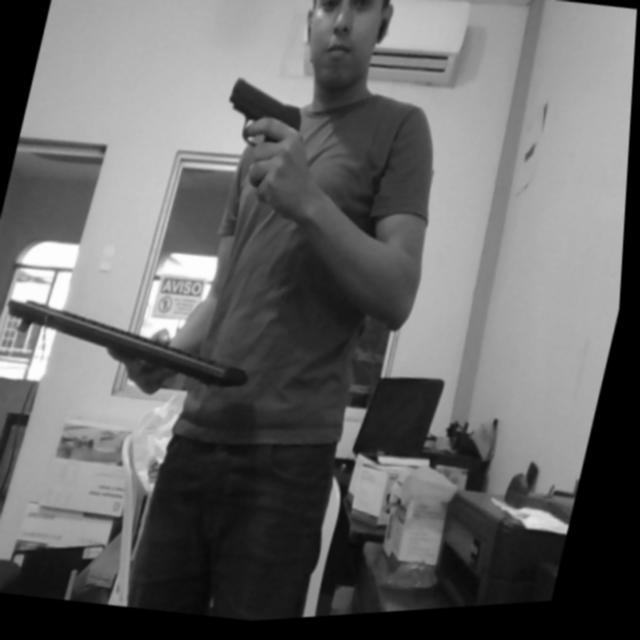weapon: (217, 70, 316, 160)
